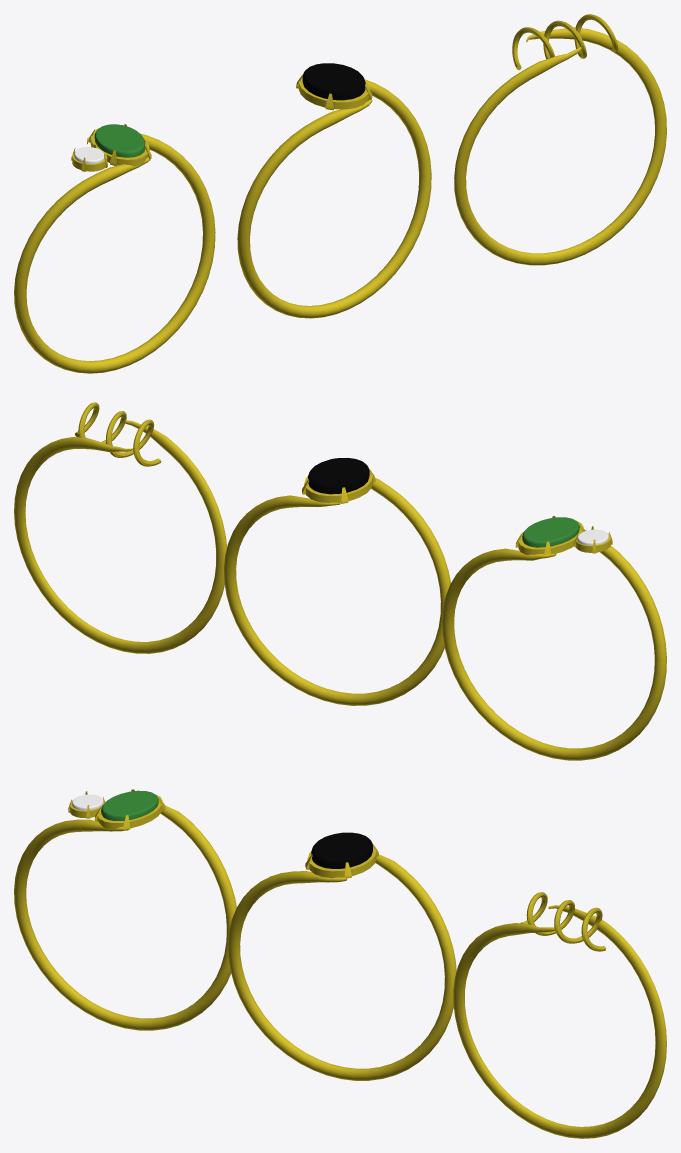
Rendered from anillos.fbx.
3 views of the same model, one above another, from view 1: azimuth 30°, elevation 25°; view 2: azimuth 150°, elevation 25°; view 3: azimuth 330°, elevation 25° (orthographic).
Parts seen in each view (by area): view 1: polySurface55, polySurface62, polySurface58, polySurface57, polySurface54, polySurface59, polySurface56, polySurface61; view 2: polySurface62, polySurface58, polySurface55, polySurface57, polySurface54, polySurface59, polySurface56, polySurface61; view 3: polySurface58, polySurface55, polySurface62, polySurface57, polySurface54, polySurface59, polySurface56, polySurface61.
Boxes of the visible parts, x1=… form: polySurface55: x1=454, y1=27, x2=666, y2=265; polySurface62: x1=14, y1=133, x2=215, y2=373; polySurface58: x1=237, y1=79, x2=431, y2=318; polySurface57: x1=302, y1=63, x2=365, y2=100; polySurface54: x1=512, y1=14, x2=617, y2=70; polySurface59: x1=94, y1=124, x2=145, y2=157; polySurface56: x1=296, y1=74, x2=372, y2=110; polySurface61: x1=88, y1=124, x2=151, y2=166; polySurface62: x1=442, y1=530, x2=666, y2=760; polySurface58: x1=224, y1=478, x2=450, y2=705; polySurface55: x1=14, y1=420, x2=226, y2=653; polySurface57: x1=308, y1=458, x2=369, y2=494; polySurface54: x1=75, y1=402, x2=161, y2=466; polySurface59: x1=522, y1=517, x2=579, y2=547; polySurface56: x1=302, y1=468, x2=375, y2=503; polySurface61: x1=515, y1=515, x2=585, y2=554; polySurface58: x1=228, y1=854, x2=456, y2=1080; polySurface55: x1=453, y1=905, x2=666, y2=1138; polySurface62: x1=14, y1=805, x2=236, y2=1030; polySurface57: x1=311, y1=832, x2=372, y2=868; polySurface54: x1=520, y1=892, x2=605, y2=951; polySurface59: x1=101, y1=790, x2=158, y2=820; polySurface56: x1=305, y1=842, x2=378, y2=878; polySurface61: x1=94, y1=789, x2=165, y2=830.
Size of the model in its own units: 7.39 by 2.57 by 0.8407.
